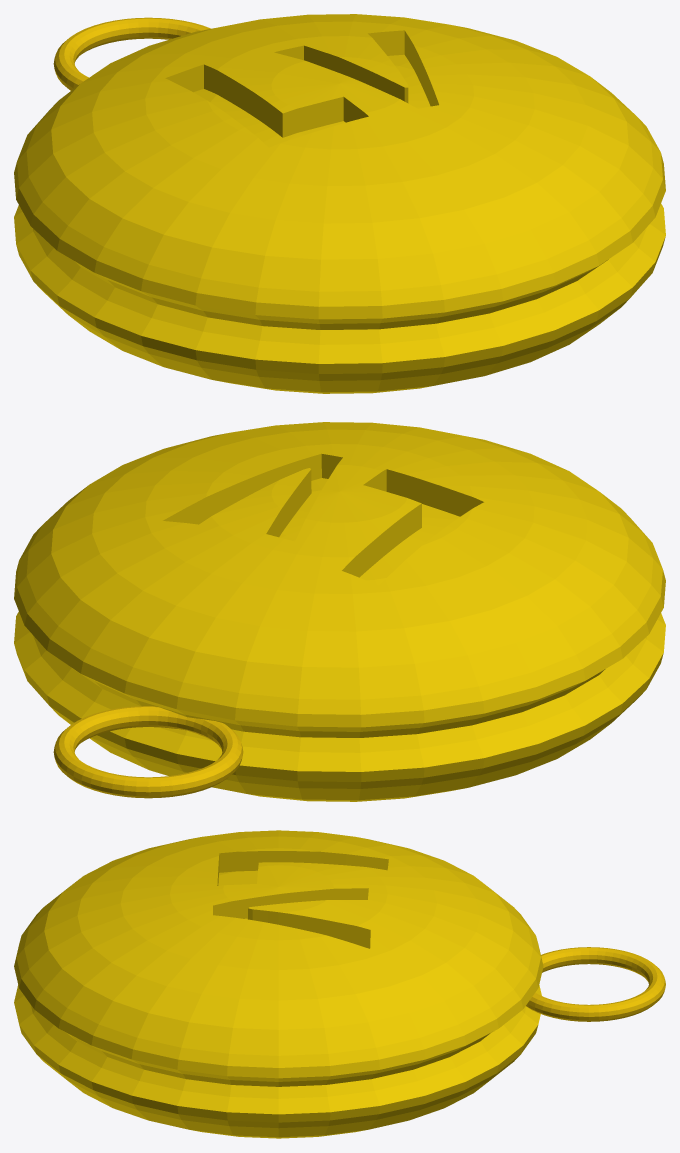
Rendered from medallion.fbx.
3 views of the same model, one above another, from view 1: azimuth 30°, elevation 25°; view 2: azimuth 150°, elevation 25°; view 3: azimuth 270°, elevation 25° (orthographic). The views are drawn at different scales.
Parts seen in each view (by area): view 1: Sphere, Torus; view 2: Sphere, Torus; view 3: Sphere, Torus.
Part boxes in pixels (x1,y1,x2,y2): Sphere: [14, 14, 665, 393]; Torus: [53, 17, 210, 90]; Sphere: [14, 422, 665, 801]; Torus: [53, 706, 243, 798]; Sphere: [14, 830, 543, 1138]; Torus: [526, 947, 665, 1021].
Bounding box in the file's own units: 186 × 75.65 × 229.
